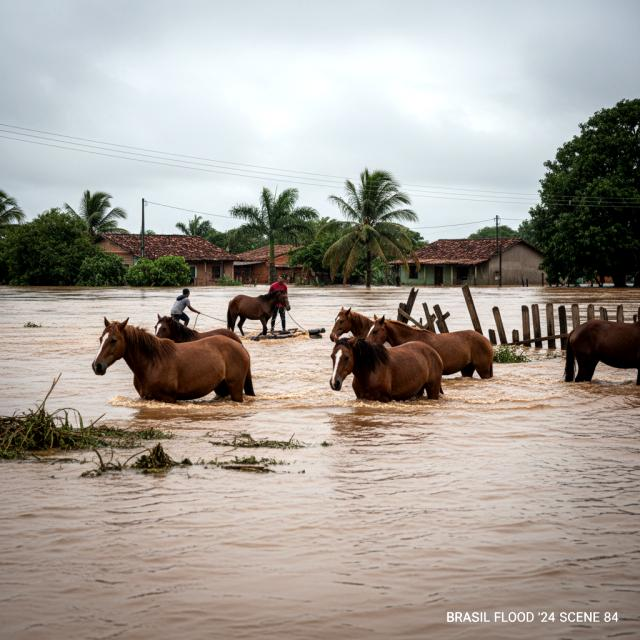civilian: (168, 285, 202, 330), (268, 273, 292, 336)
horse: (92, 315, 262, 410), (366, 315, 502, 387), (325, 332, 449, 408), (152, 310, 251, 399), (562, 316, 640, 386), (226, 292, 292, 337), (328, 305, 396, 345)
